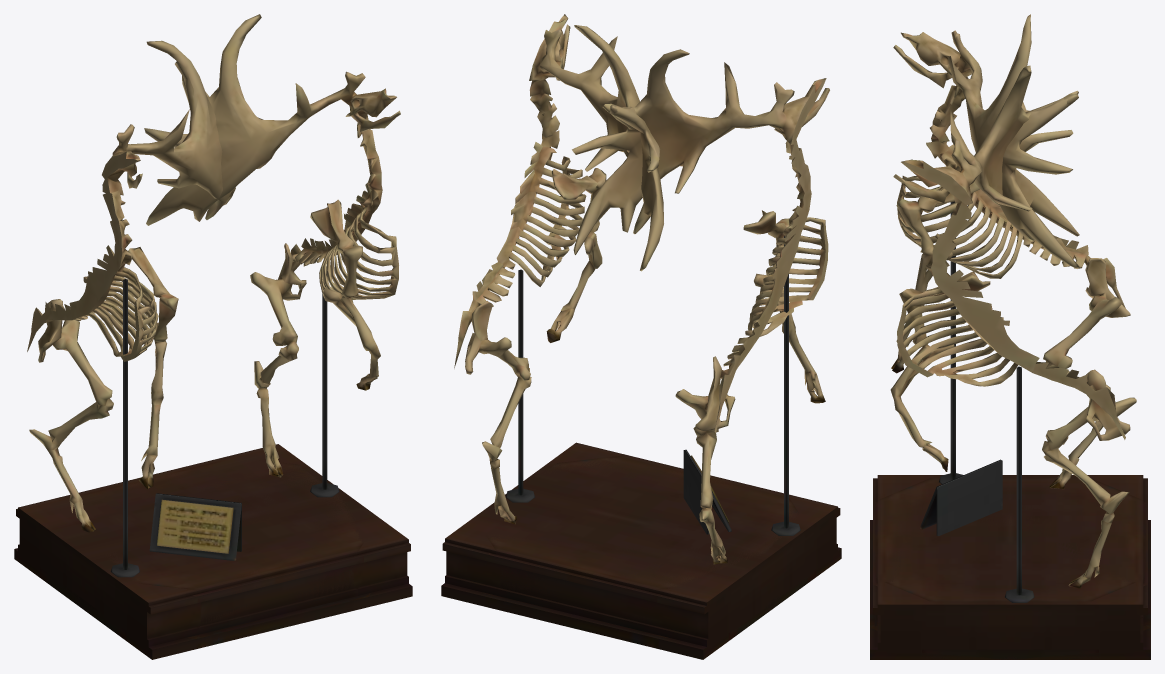
The model's file is fossil-megalo.glb.
3 renders of one model, left to right at view 1: azimuth 30°, elevation 25°; view 2: azimuth 150°, elevation 25°; view 3: azimuth 270°, elevation 25°, orthographic.
Visible parts, largest first — view 1: mFossilBaseEnd (×2), mFtrFossilMegalocerosA, mFtrFossilMegalocerosB; view 2: mFossilBaseEnd (×2), mFtrFossilMegalocerosB, mFtrFossilMegalocerosA; view 3: mFossilBaseEnd (×2), mFtrFossilMegalocerosA, mFtrFossilMegalocerosB.
Boxes of the visible parts, box(x1,y1,x2,y2) form: mFossilBaseEnd (×2): box(14, 266, 412, 659); mFtrFossilMegalocerosA: box(144, 14, 400, 477); mFtrFossilMegalocerosB: box(27, 40, 235, 532); mFossilBaseEnd (×2): box(441, 236, 841, 659); mFtrFossilMegalocerosB: box(572, 49, 829, 564); mFtrFossilMegalocerosA: box(454, 14, 663, 524); mFossilBaseEnd (×2): box(870, 201, 1150, 659); mFtrFossilMegalocerosA: box(890, 65, 1130, 588); mFtrFossilMegalocerosB: box(891, 14, 1136, 489).
Bounding box in the file's own units: 20.01 × 39.83 × 18.33.
Materials: 4 (4 with a texture image).
